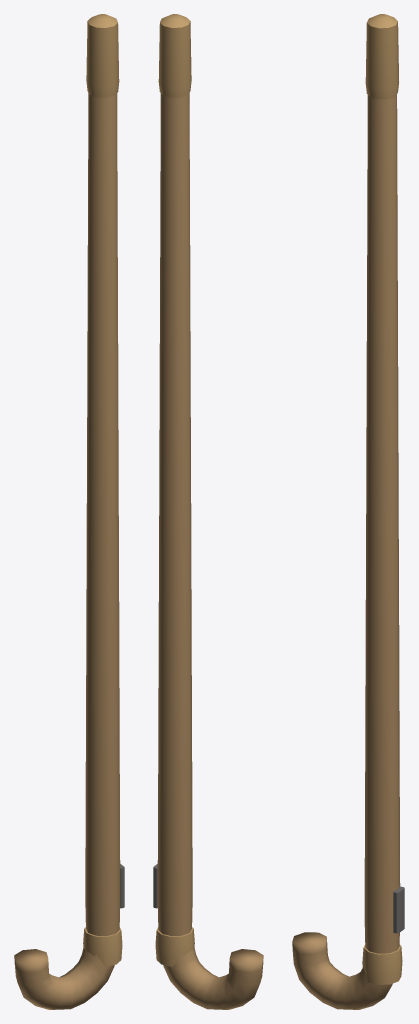
File: sword-cane-pistol.glb
3 views of the same model, side by side, from view 1: azimuth 30°, elevation 25°; view 2: azimuth 150°, elevation 25°; view 3: azimuth 330°, elevation 25° (orthographic).
Visible parts, largest first — view 1: sword-cane-pistol; view 2: sword-cane-pistol; view 3: sword-cane-pistol.
Part boxes in pixels (<box>): sword-cane-pistol: <box>14,14,124,1009</box>; sword-cane-pistol: <box>153,14,263,1009</box>; sword-cane-pistol: <box>292,14,404,1009</box>.
Size of the model in its own units: 0.2219 by 1.97 by 0.0685.
